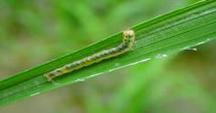pest: (42, 27, 137, 81)
